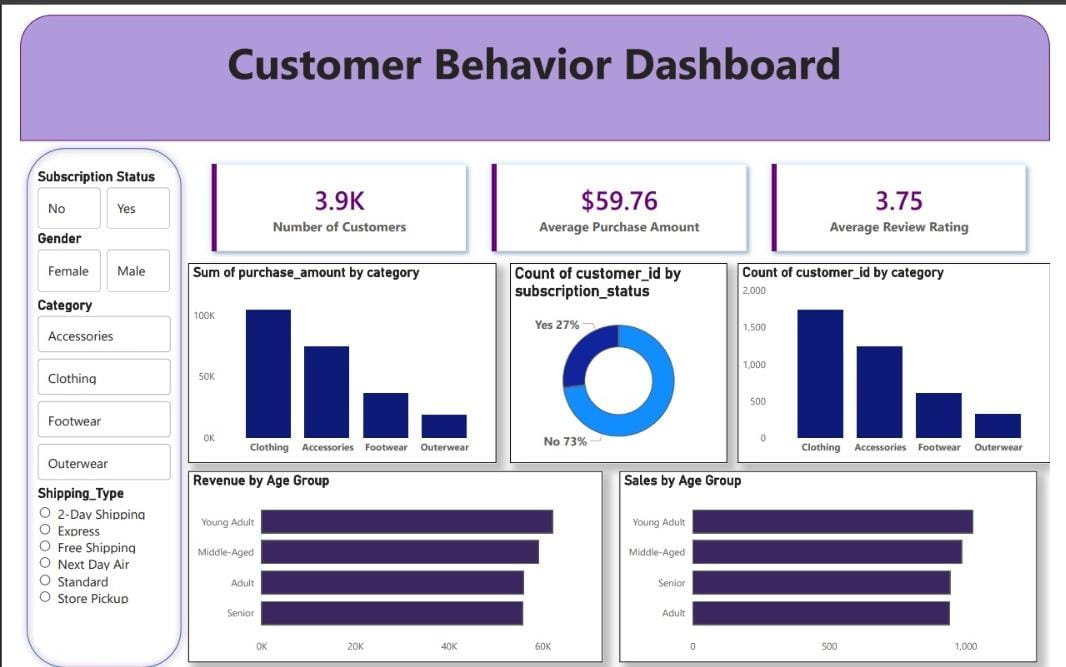

The page's visual inventory and layout, read from the dashboard file:
{"tool":"powerbi","page":{"name":"Page 1","canvas":[1280,820],"ordinal":0},"visuals":[{"type":"cardVisual","fields":{"Data":["public customer.Number of Customers","public customer.Average Purchase Amount","public customer.Average Review Rating"]},"box":[209.4,156.6,1071.6,166],"z":0},{"type":"shape","box":[0,0,1280.5,157.4],"z":1000},{"type":"textbox","box":[0,17,1279.1,139.6],"z":2000},{"type":"donutChart","fields":{"Category":["public customer.subscription_status"],"Y":["CountNonNull(public customer.customer_id)"]},"box":[609.4,309.4,269.8,249],"z":3000},{"type":"clusteredColumnChart","fields":{"Y":["Sum(public customer.purchase_amount)"],"Category":["public customer.category"]},"box":[209.4,309.4,383,249],"z":4000},{"type":"clusteredColumnChart","fields":{"Y":["CountNonNull(public customer.customer_id)"],"Category":["public customer.category"]},"box":[892.3,309.4,388.6,249],"z":5000},{"type":"shape","box":[0,156.6,209.4,664.1],"z":6000},{"type":"advancedSlicerVisual","fields":{"Values":["public customer.subscription_status"]},"box":[17,190.5,175.4,81.1],"z":7000},{"type":"advancedSlicerVisual","fields":{"Values":["public customer.gender"]},"box":[17,267.9,175.4,83],"z":8000},{"type":"advancedSlicerVisual","fields":{"Values":["public customer.category"]},"box":[17,350.9,175.4,233.9],"z":9000},{"type":"listSlicer","fields":{"Values":["public customer.shipping_type"]},"box":[17,584.8,175.4,200],"z":10000},{"type":"clusteredBarChart","title":"Revenue by Age Group","fields":{"Y":["Sum(public customer.purchase_amount)"],"Category":["public customer.age_group"]},"box":[209.4,567.9,515,237.7],"z":10001},{"type":"clusteredBarChart","title":"Sales by Age Group","fields":{"Category":["public customer.age_group"],"Y":["CountNonNull(public customer.customer_id)"]},"box":[745.2,567.9,518.8,237.7],"z":10002}]}

Visuals, with their boxes in screenshot pixels (x1, y1, x2, y2), scaled from the page's 1280x820 canvas onto the 1066x667 screenshot:
cardVisual - public customer.Number of Customers x public customer.Average Purchase Amount: (174,127,1065,262)
shape: (0,0,1065,128)
textbox: (0,14,1065,127)
donutChart - public customer.subscription_status x CountNonNull(public customer.customer_id): (508,252,732,454)
clusteredColumnChart - Sum(public customer.purchase_amount) x public customer.category: (174,252,493,454)
clusteredColumnChart - CountNonNull(public customer.customer_id) x public customer.category: (743,252,1065,454)
shape: (0,127,174,666)
advancedSlicerVisual - public customer.subscription_status: (14,155,160,221)
advancedSlicerVisual - public customer.gender: (14,218,160,285)
advancedSlicerVisual - public customer.category: (14,285,160,476)
listSlicer - public customer.shipping_type: (14,476,160,638)
"Revenue by Age Group" clusteredBarChart: (174,462,603,655)
"Sales by Age Group" clusteredBarChart: (621,462,1053,655)
